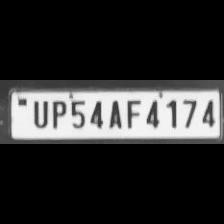1: (162, 97, 180, 128)
4: (196, 96, 218, 128), (142, 97, 162, 129), (87, 97, 105, 128)
5: (66, 97, 86, 128)
7: (178, 97, 196, 128)
A: (104, 98, 122, 130)
F: (122, 97, 142, 128)
P: (47, 97, 66, 128)
U: (28, 97, 48, 128)
